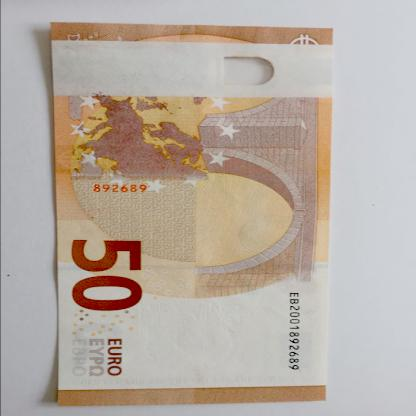euro_banknote: (5, 71, 388, 353)
